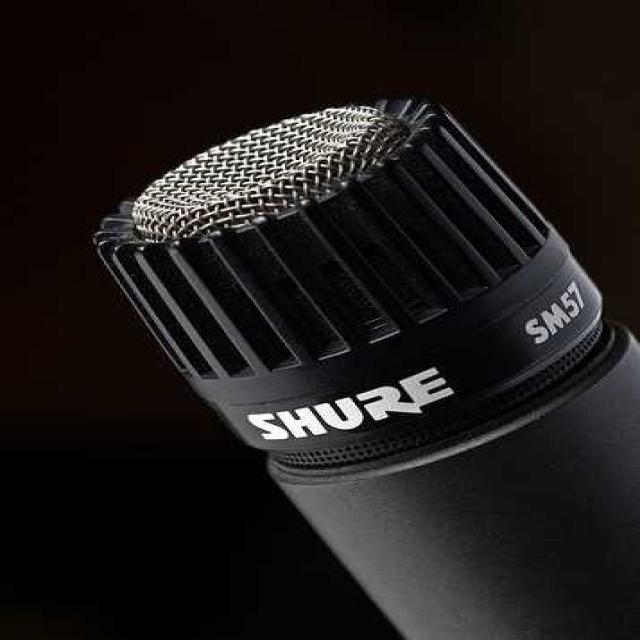microphone: (97, 99, 628, 634)
